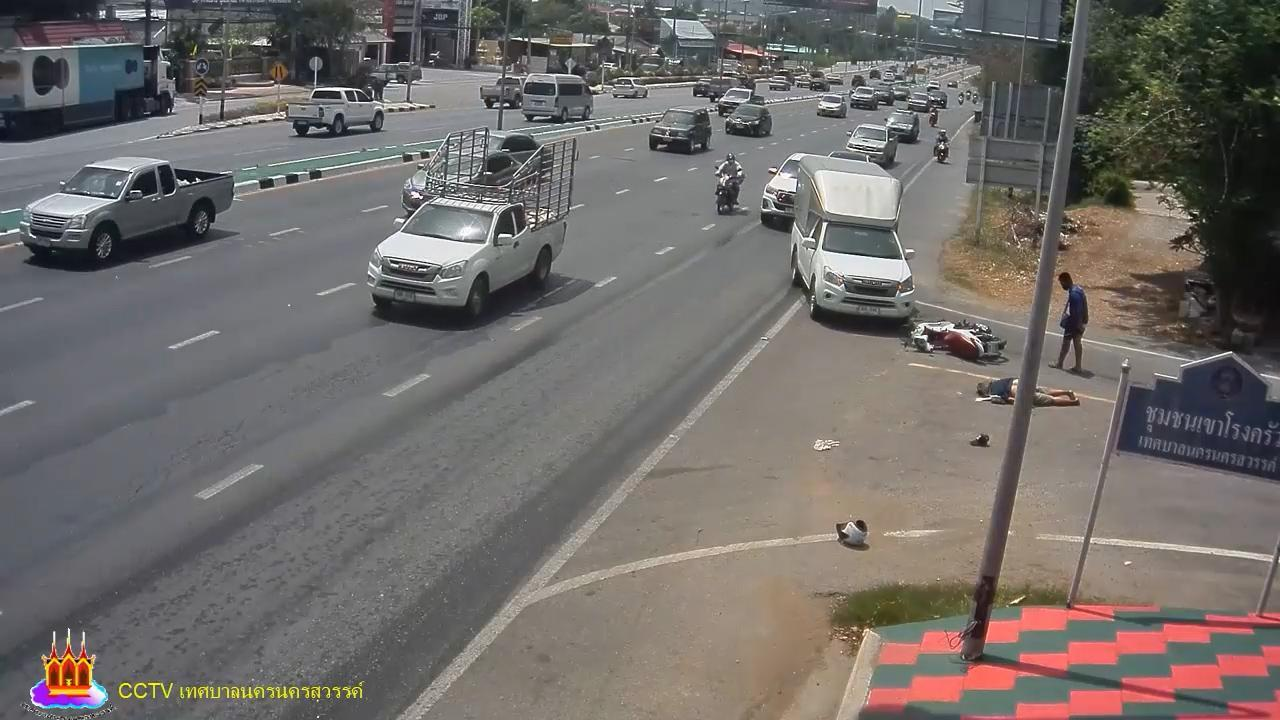accident: (975, 375, 1082, 409)
